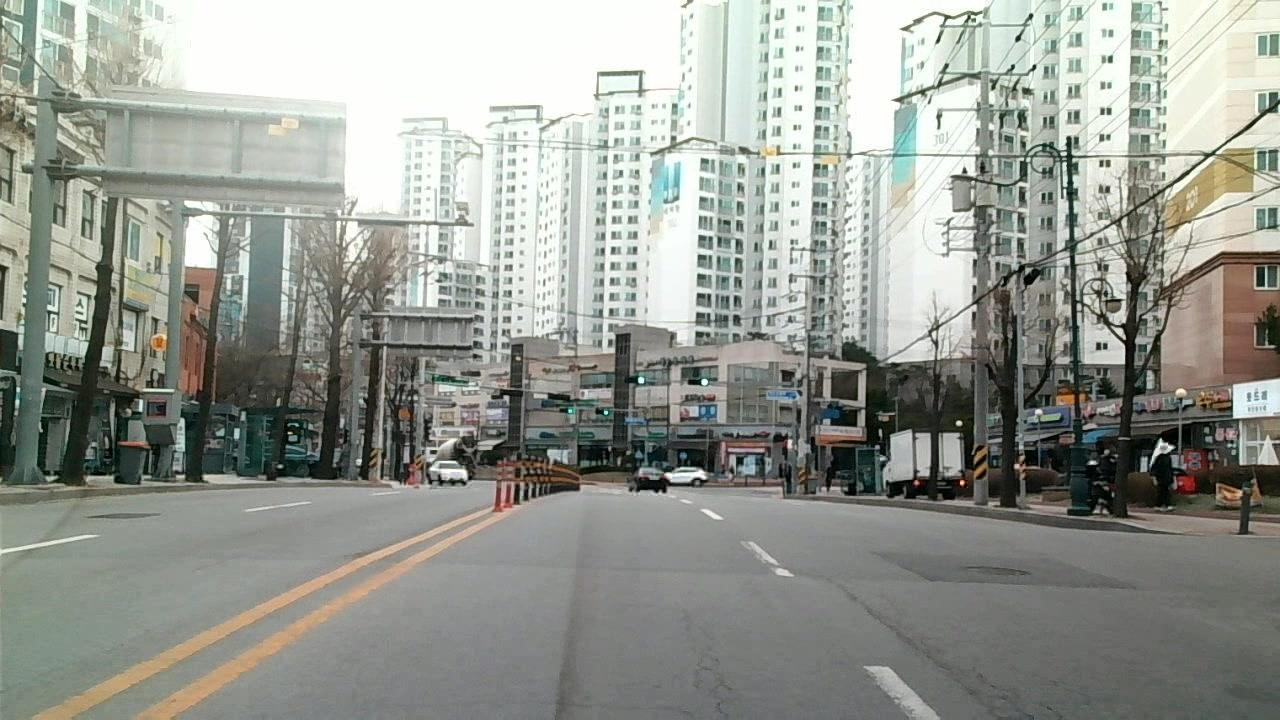vcrack: (845, 595, 990, 710), (689, 626, 735, 720)
